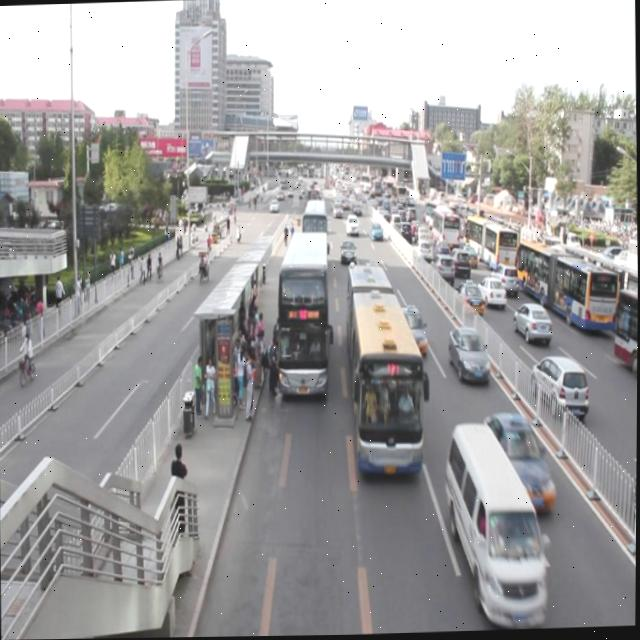car: (482, 408, 554, 522), (447, 325, 490, 386), (397, 303, 426, 359), (340, 240, 356, 263), (345, 213, 357, 234), (369, 222, 381, 242), (331, 201, 341, 217), (350, 203, 361, 217), (341, 199, 350, 213)
truck: (443, 420, 548, 622)
van: (345, 264, 424, 483), (276, 230, 329, 398), (301, 198, 326, 262)
